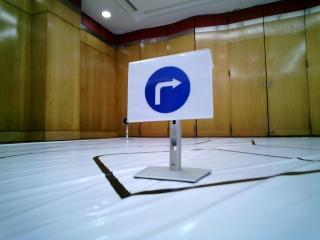right: (129, 64, 210, 114)
